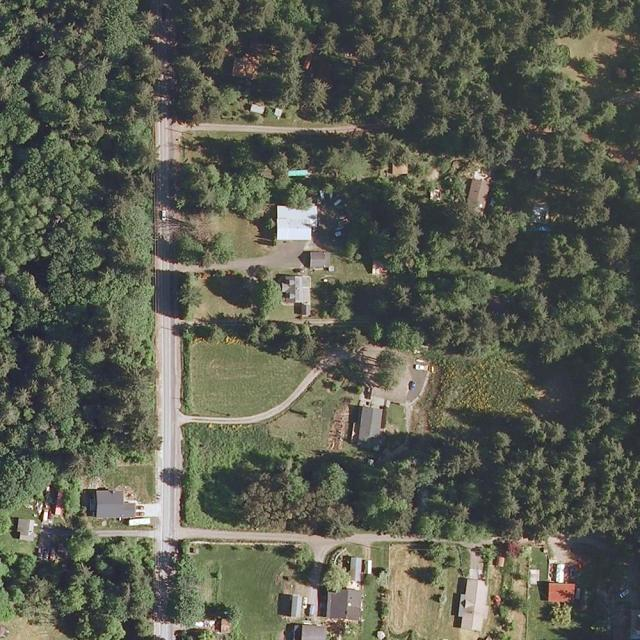building: (449, 577, 492, 632), (81, 489, 136, 519), (276, 205, 318, 241), (275, 274, 311, 316), (326, 588, 363, 621), (357, 405, 383, 442), (465, 176, 490, 214), (537, 581, 576, 604), (15, 519, 38, 542), (299, 251, 330, 268), (348, 556, 363, 583)
dryland: (0, 616, 71, 640)
greenland: (163, 86, 501, 292), (477, 141, 640, 535), (179, 420, 493, 546), (402, 322, 557, 479), (181, 316, 370, 416), (315, 271, 518, 354), (587, 24, 640, 303), (198, 242, 292, 325), (389, 544, 459, 640), (205, 203, 277, 272), (175, 545, 205, 626), (410, 541, 463, 569), (177, 273, 207, 319), (282, 539, 319, 575), (320, 561, 352, 595), (429, 572, 445, 589)
metalled_road: (155, 259, 184, 552), (155, 161, 178, 261), (152, 551, 178, 622), (154, 118, 183, 165)
unmetalled_road: (178, 366, 332, 447), (170, 122, 363, 134), (95, 528, 156, 538)
